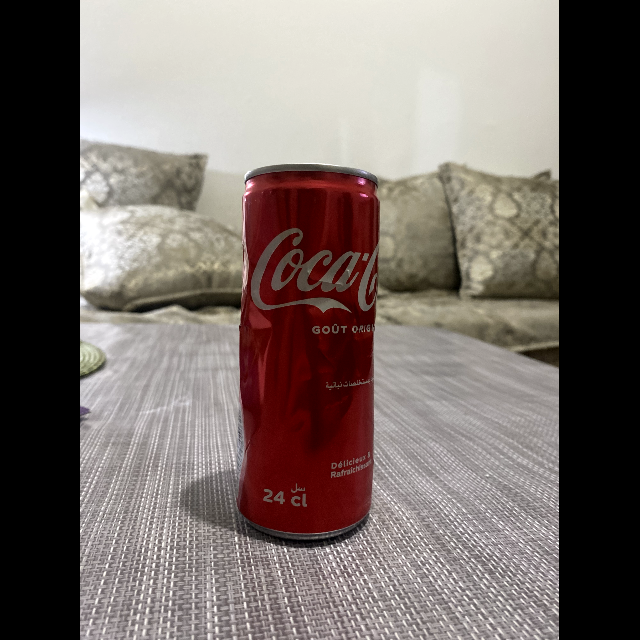coca-cola CAN: (233, 163, 376, 541)
